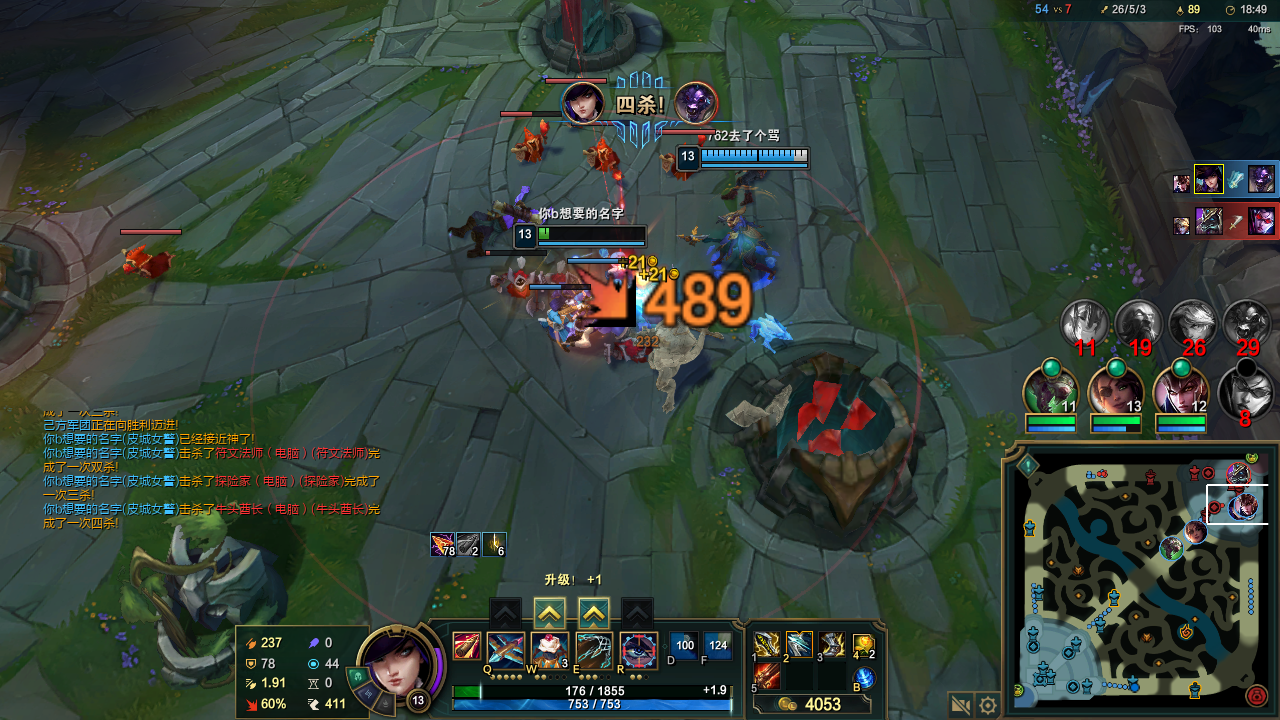DFXB: (119, 237, 193, 289), (580, 141, 622, 174), (494, 266, 535, 298), (515, 133, 551, 164), (665, 158, 685, 182)
KF: (792, 637, 809, 648)
Shenji: (587, 600, 609, 623), (541, 603, 565, 623)
